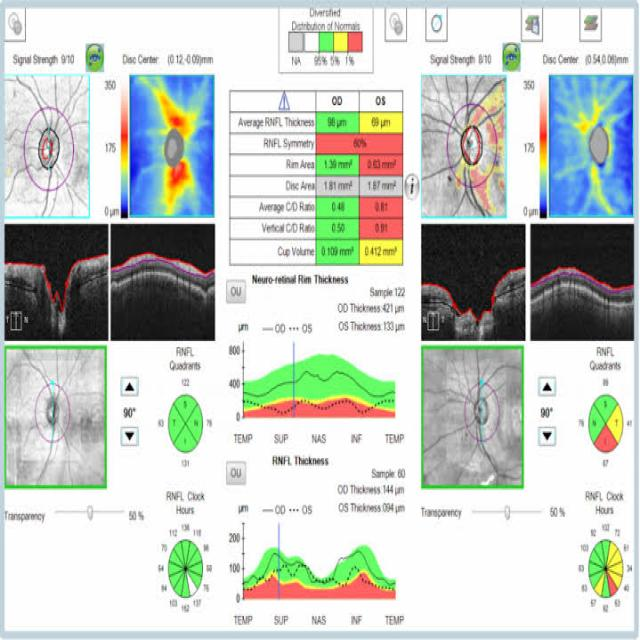rim area: (241, 154, 400, 176)
rim area-od: (319, 154, 358, 174)
rim area-os: (363, 155, 399, 173)
vertical cd ratio: (244, 218, 398, 240)
vertical cd ratio-od: (321, 218, 357, 237)
vertical cd ratio-os: (364, 218, 401, 238)
